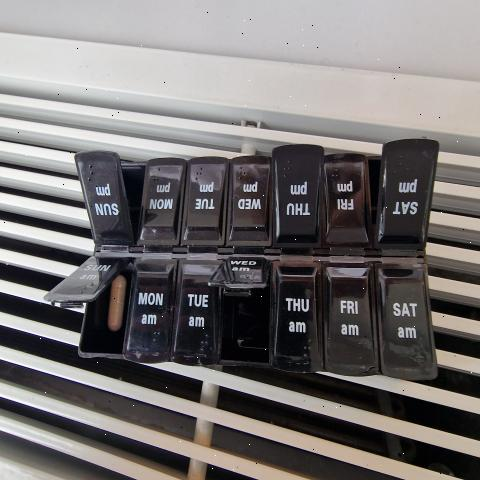Open: (215, 266, 273, 362), (80, 260, 135, 355), (116, 155, 147, 242), (368, 158, 379, 230)
